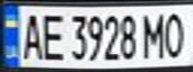2: (103, 11, 121, 61)
3: (66, 10, 87, 62)
8: (118, 11, 142, 61)
9: (84, 11, 106, 62)
A: (18, 9, 45, 61)
E: (39, 10, 66, 62)
M: (139, 10, 169, 60)
O: (160, 8, 190, 59)
